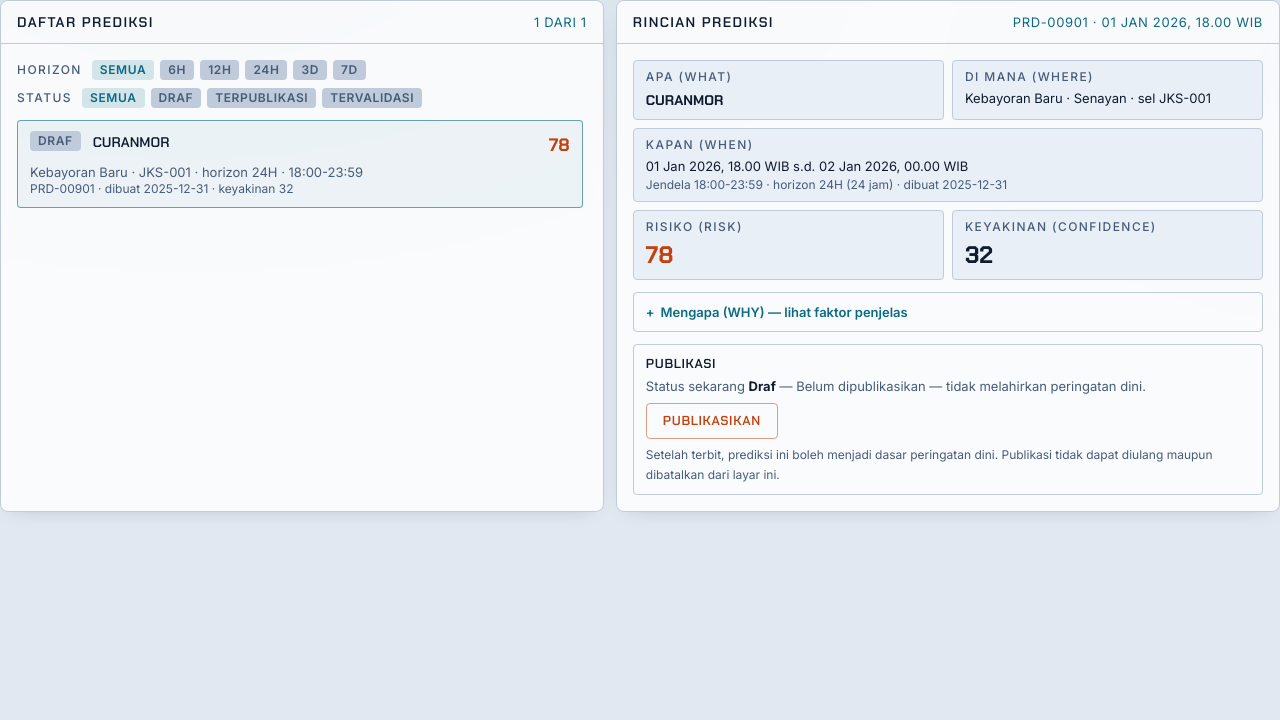
publikasi › menampilkan penolakan backend apa adanya
Click the button "Publikasikan": (712, 421) [646, 403, 778, 439]
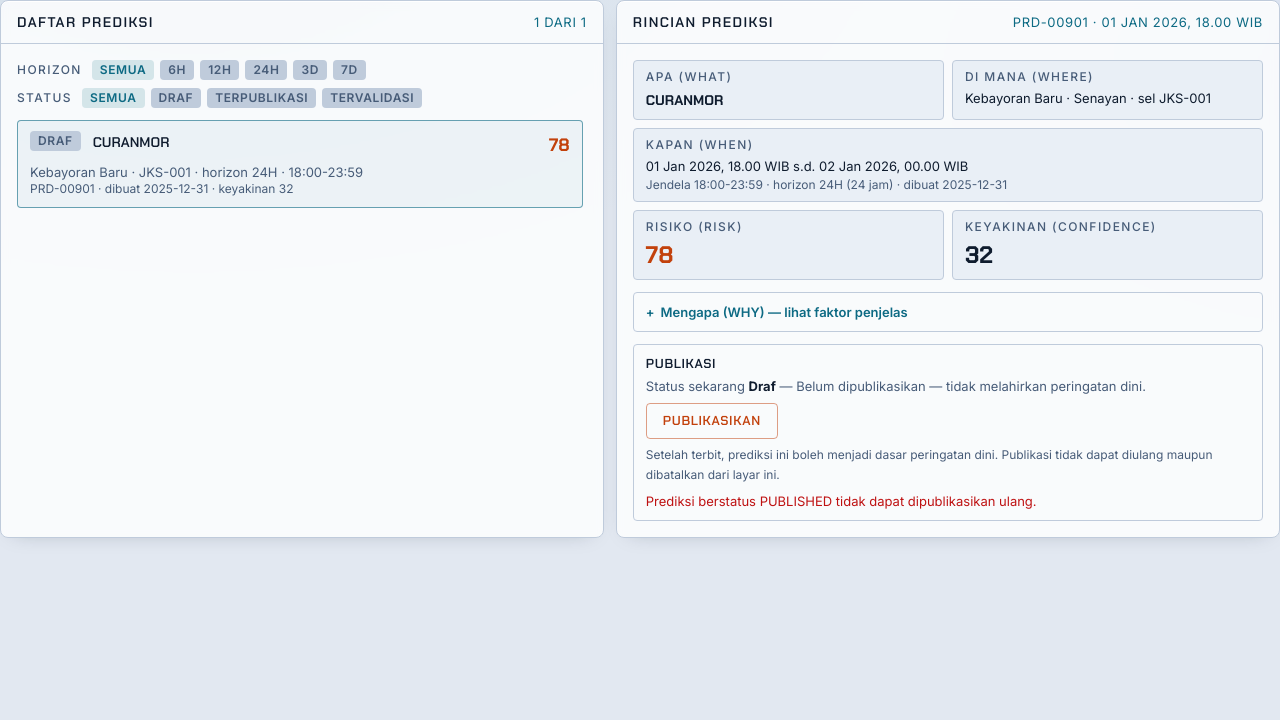
Expected: the message shows "tidak dapat dipublikasikan ulang", [646, 493, 1037, 509]
